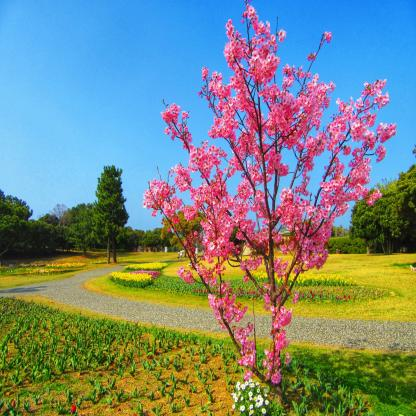Momo: (142, 0, 398, 385)
